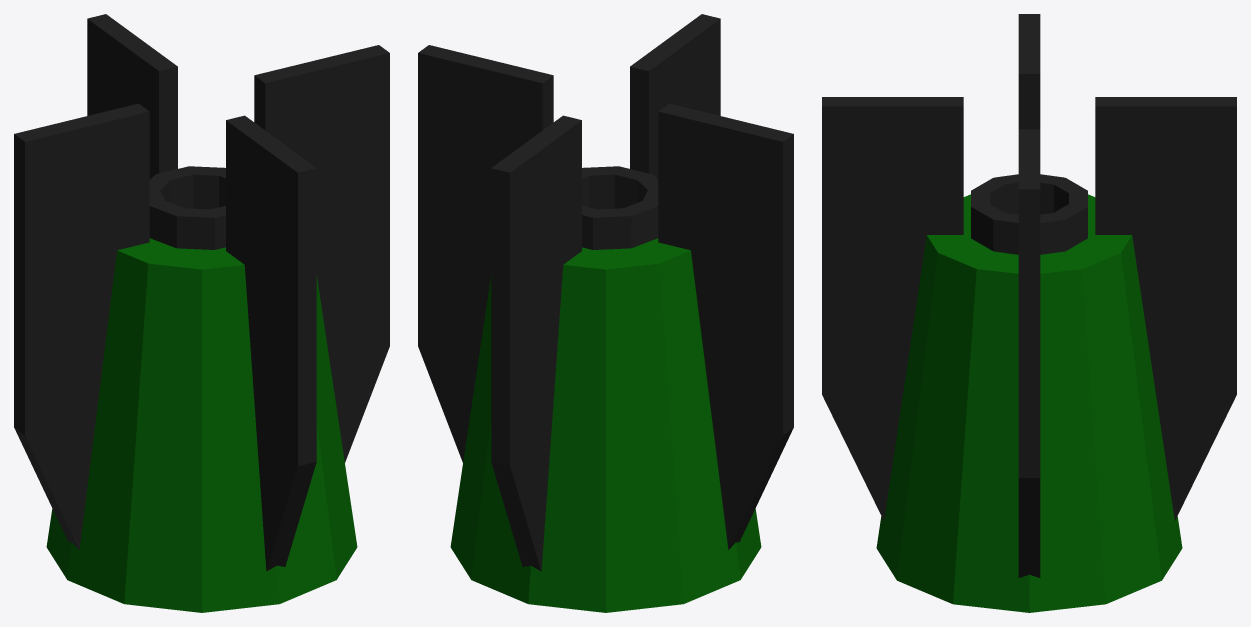
Rendered from Prop_Industrial_Rocket_Tail_01.FBX.
3 renders of one model, left to right at view 1: azimuth 30°, elevation 25°; view 2: azimuth 150°, elevation 25°; view 3: azimuth 270°, elevation 25°, orthographic.
Parts seen in each view (by area): view 1: Prop_Industrial_Rocket_Tail_01; view 2: Prop_Industrial_Rocket_Tail_01; view 3: Prop_Industrial_Rocket_Tail_01.
Part boxes in pixels (x1,y1,x2,y2): Prop_Industrial_Rocket_Tail_01: [14, 14, 389, 612]; Prop_Industrial_Rocket_Tail_01: [418, 14, 793, 612]; Prop_Industrial_Rocket_Tail_01: [822, 14, 1236, 612].
Size of the model in its own units: 2084 by 2477 by 2084.
